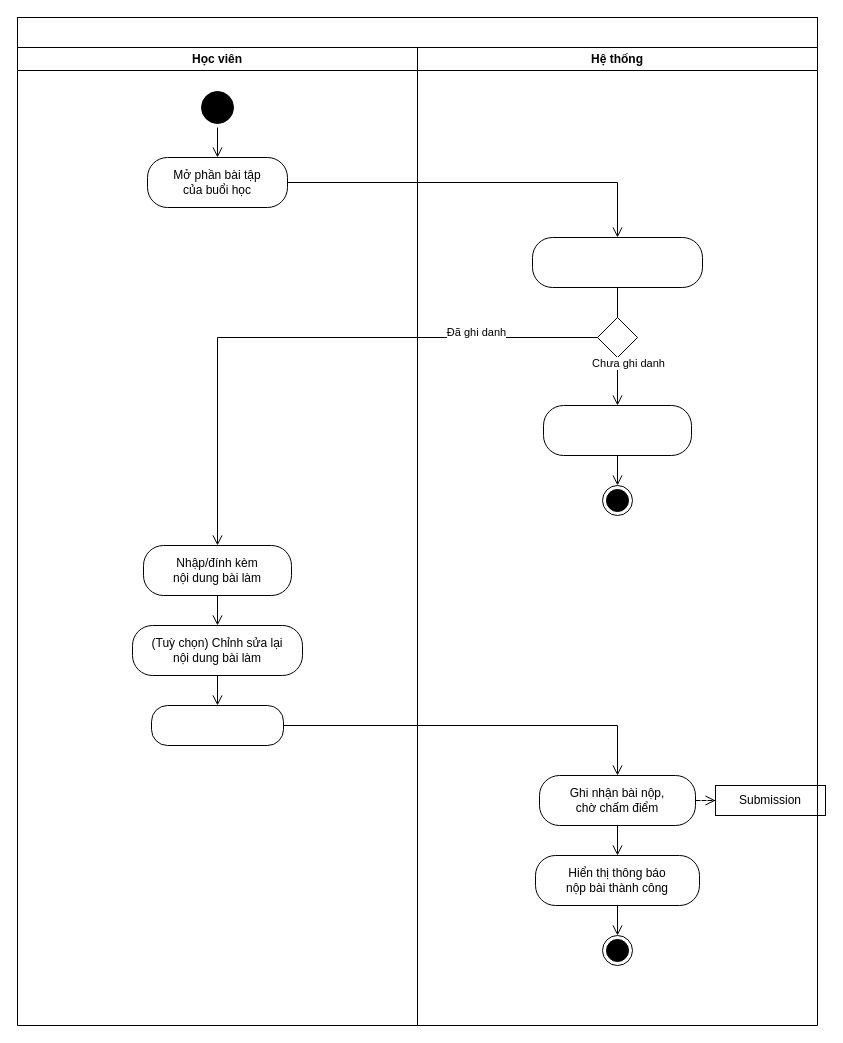
Image size: 843x1043. Some labels were removed from this diagram. Each missing label, with the centre of its shape:
"Hiển thị yêu cầu ghi danh trước" belongs at (x=617, y=430).
"Kiểm tra đã ghi danh khoá học" belongs at (x=617, y=262).
"Nhấn 'Nộp bài'" belongs at (x=217, y=725).
"NỘP BÀI TẬP" belongs at (x=417, y=32).
